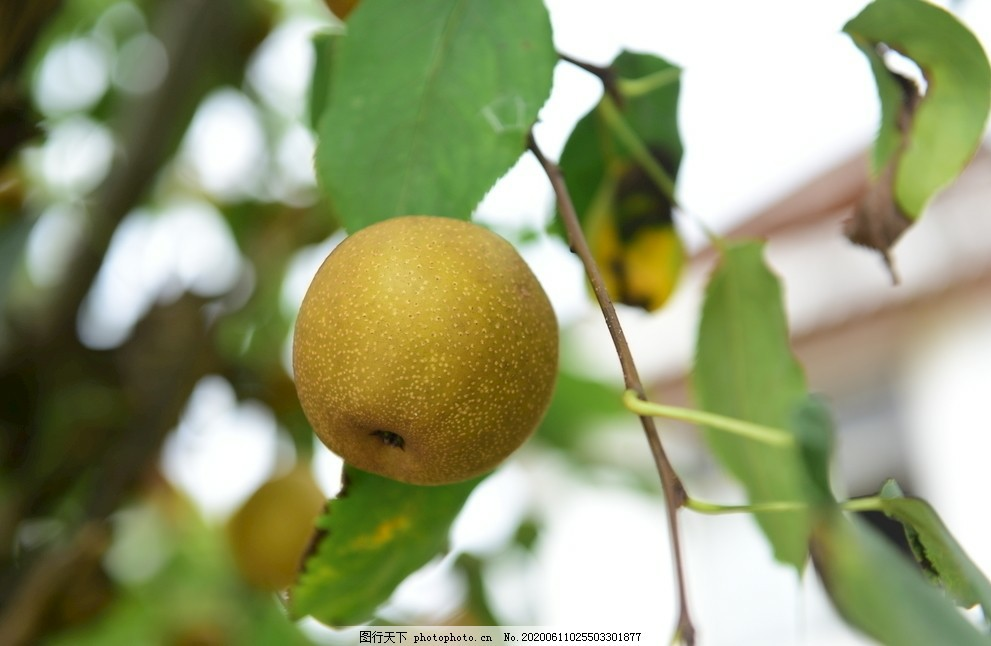pear: (290, 212, 557, 489)
